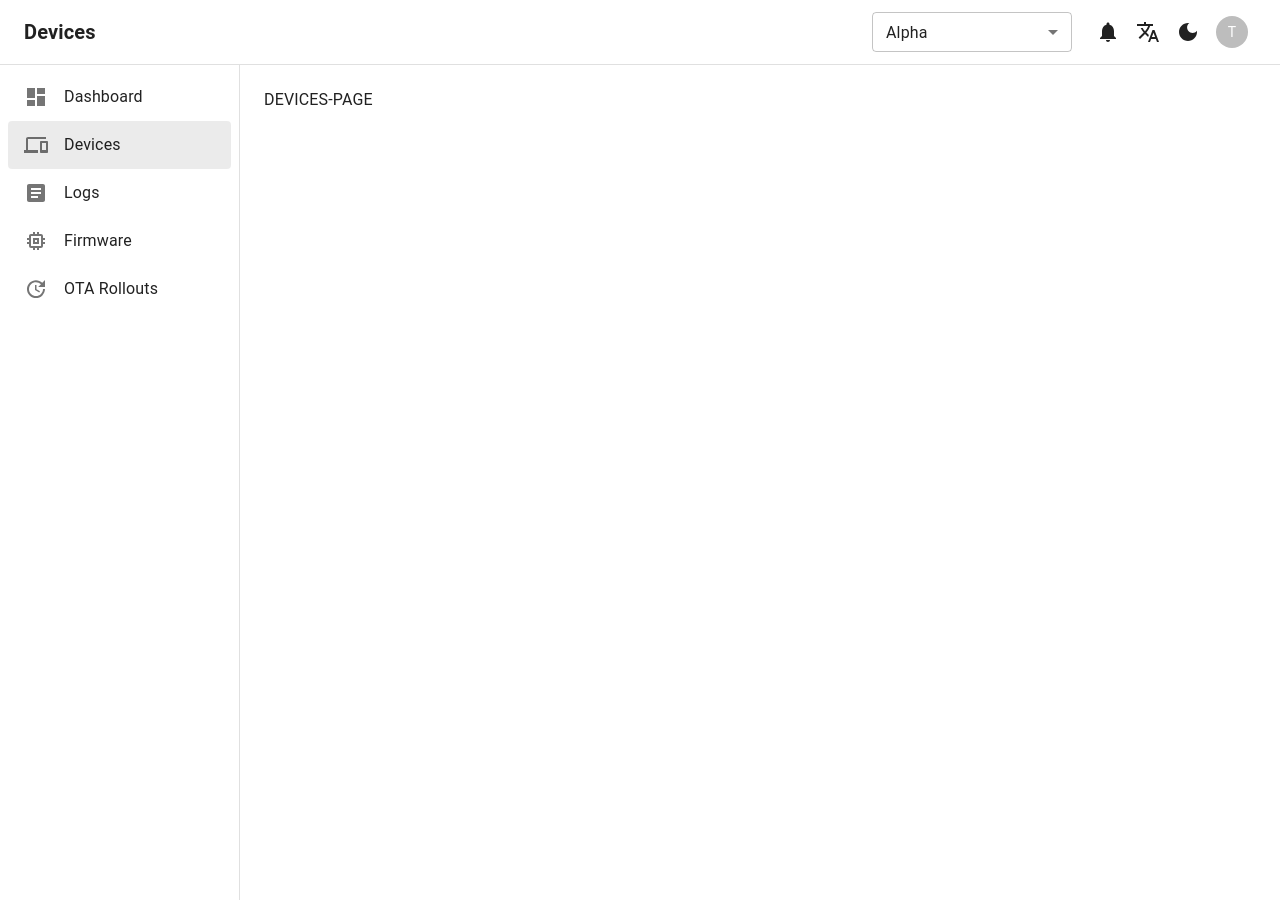
Test case: AppLayout page titles and project switching › bell shows the empty state without notifications
Click the button named "Notifications": click(1108, 32) [1088,12,1128,52]
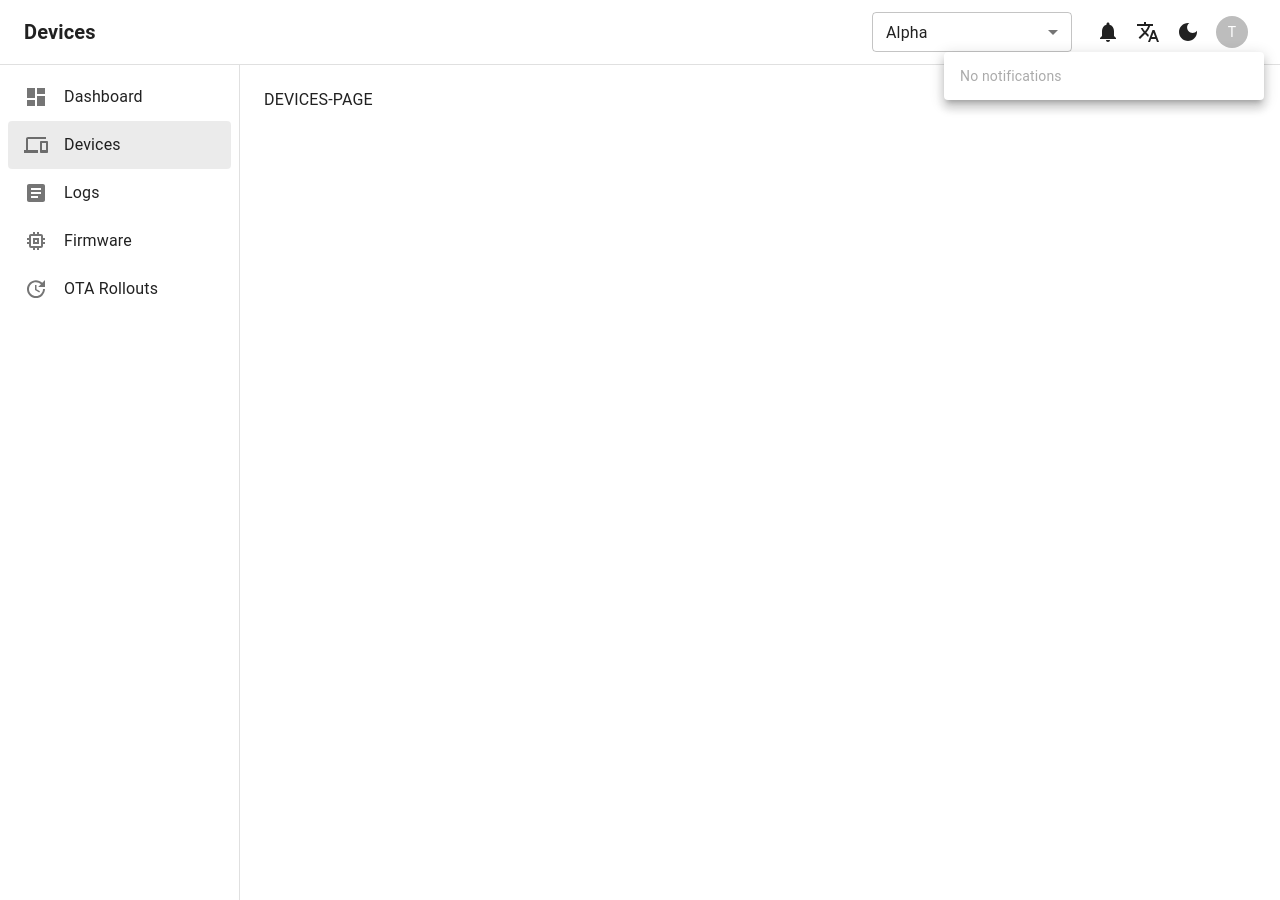
Check: the text "No notifications" is shown, box [960,66,1062,86]
